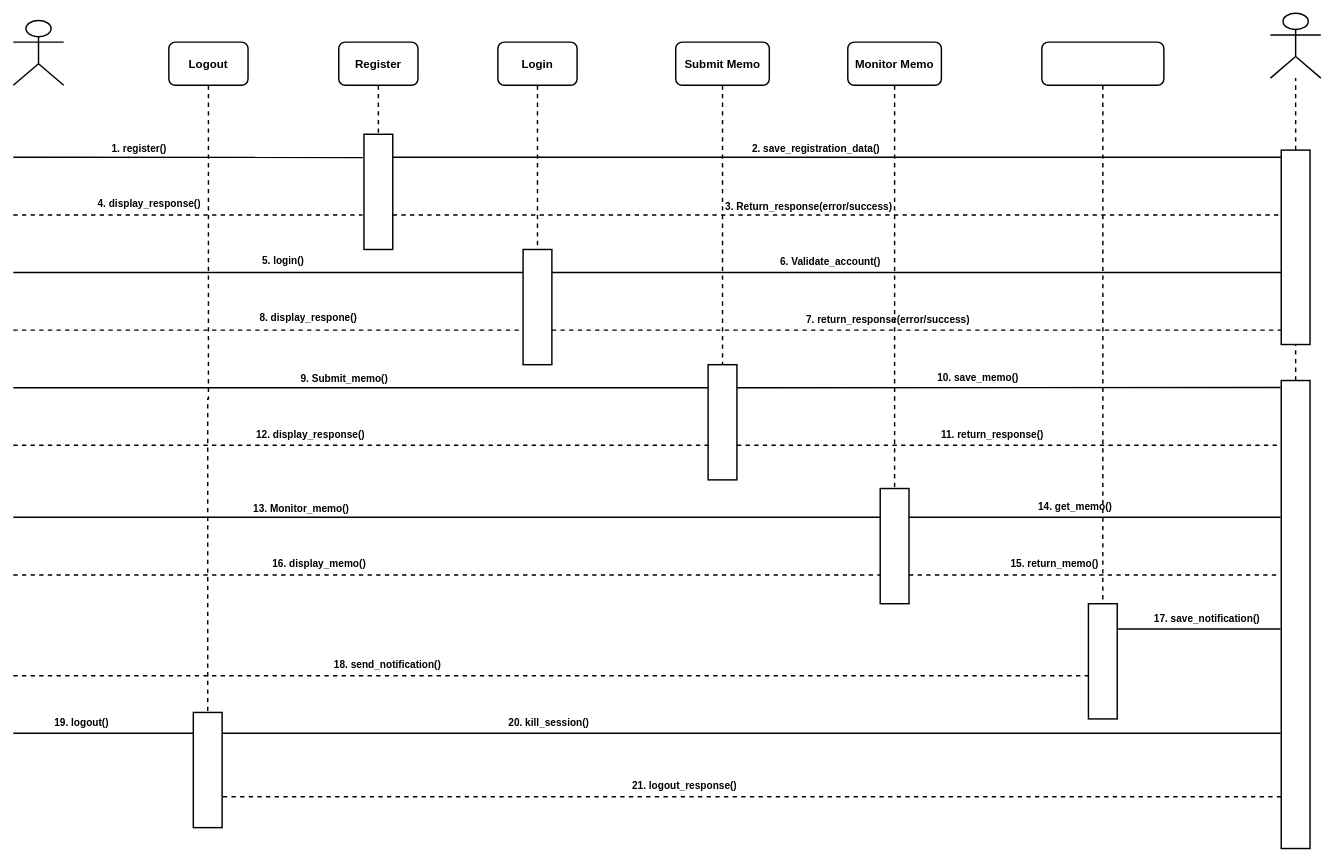
This 1333x861 diagram has some shape labels left out. Each missing label, with the centre of its shape:
"Database" belongs at (1295,45).
"Receive Notification" belongs at (1102,63).
"Users" belongs at (38,52).
